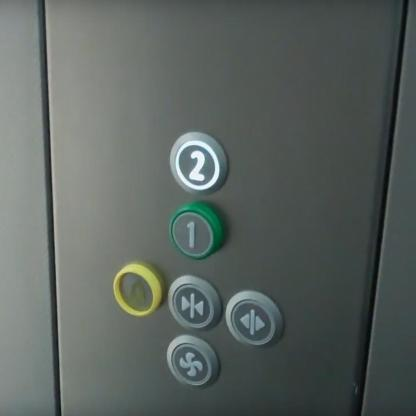1: (168, 201, 222, 260)
2: (167, 129, 229, 196)
alarm: (111, 260, 161, 318)
close: (164, 272, 222, 333)
fan: (165, 333, 220, 390)
open: (225, 287, 282, 348)
